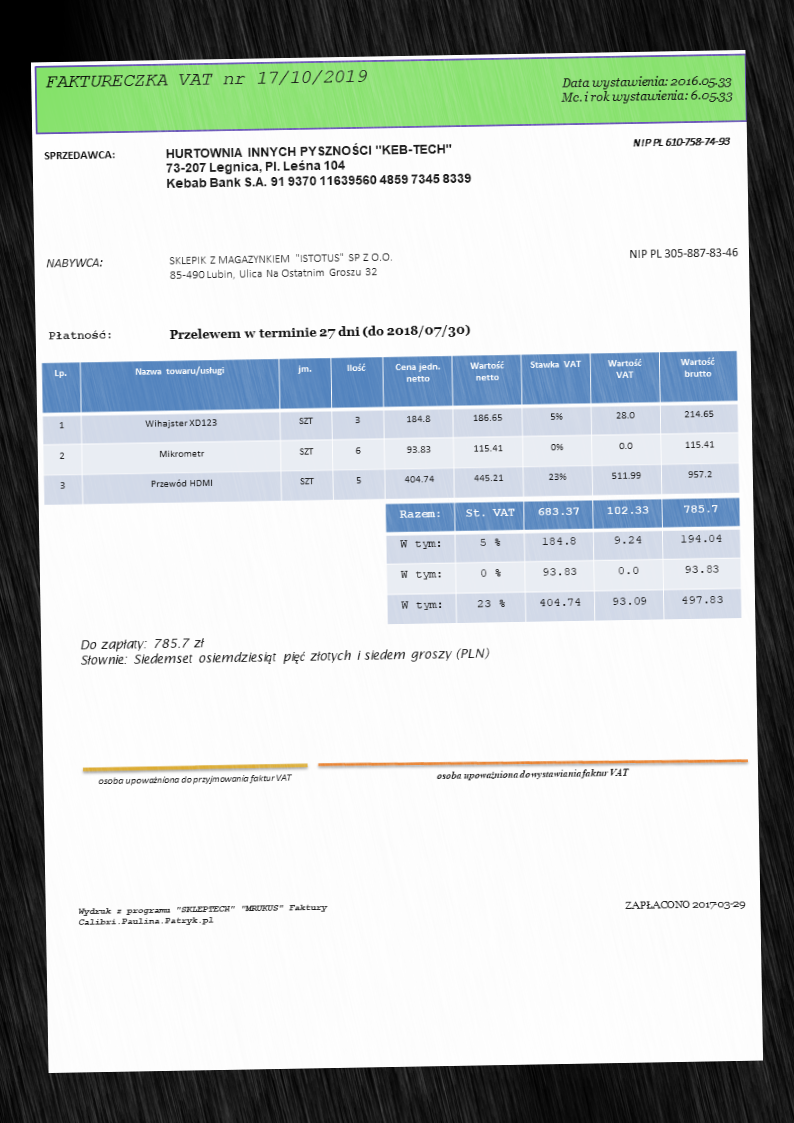Table: (40, 348, 741, 507), (383, 497, 744, 626)
TextBox: (163, 138, 474, 192), (77, 628, 491, 668), (43, 66, 369, 93), (167, 249, 395, 283), (167, 320, 471, 343), (76, 901, 330, 928), (558, 72, 735, 108), (96, 771, 295, 790), (434, 765, 630, 783), (622, 896, 746, 914), (626, 244, 740, 262), (631, 133, 733, 150), (41, 146, 117, 162), (45, 327, 113, 342), (44, 254, 104, 269)
